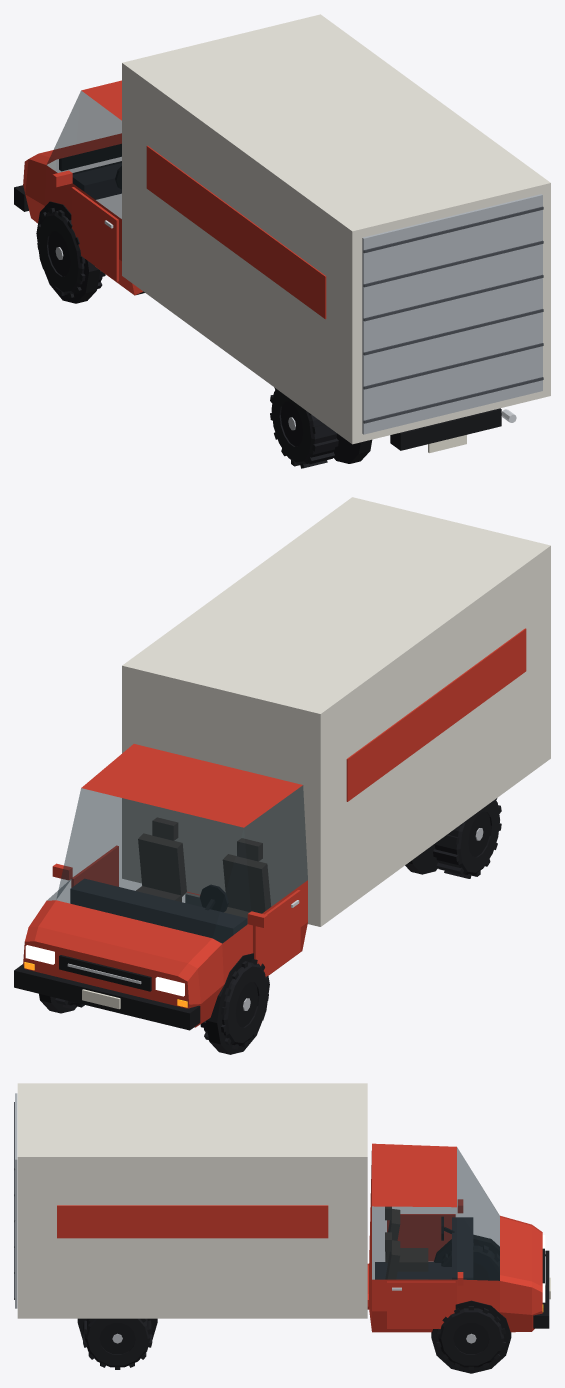
File: boxtruck.glb
3 renders of one model, top to bottom at view 1: azimuth 30°, elevation 25°; view 2: azimuth 150°, elevation 25°; view 3: azimuth 270°, elevation 25°, orthographic. The views are drawn at different scales.
Visible parts, largest first — view 1: boxtruck, boxtruck_wheel_rl, boxtruck_wheel_fl, boxtruck_door_fl; view 2: boxtruck, boxtruck_wheel_rl, boxtruck_wheel_fl, boxtruck_door_fl, boxtruck_door_fr; view 3: boxtruck, boxtruck_wheel_fr, boxtruck_door_fr, boxtruck_wheel_rr, boxtruck_door_fl, boxtruck_wheel_fl.
Boxes of the visible parts, x1,y1,x2,y2 form: boxtruck: (14,14,550,463); boxtruck_wheel_rl: (270,387,338,468); boxtruck_wheel_fl: (37,208,105,298); boxtruck_door_fl: (71,187,118,281); boxtruck: (14,497,550,1054); boxtruck_wheel_rl: (433,798,501,878); boxtruck_wheel_fl: (200,959,268,1049); boxtruck_door_fl: (253,890,300,976); boxtruck_door_fr: (71,845,118,887); boxtruck: (14,1083,550,1373); boxtruck_wheel_fr: (436,1306,505,1369); boxtruck_door_fr: (387,1281,455,1328); boxtruck_wheel_rr: (83,1318,152,1369); boxtruck_door_fl: (387,1214,455,1261); boxtruck_wheel_fl: (441,1243,499,1280).
Bounding box in the file's own units: 2.6 × 3.4 × 7.52.
